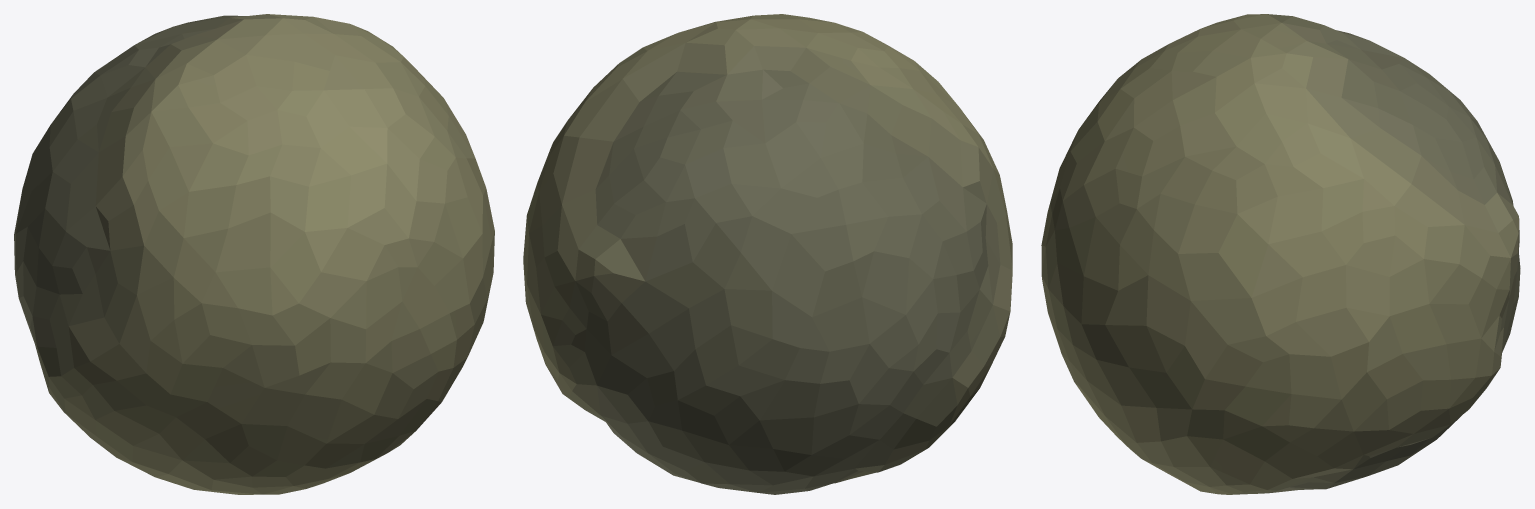
The model's file is zeometry-organic-forms-lumpy-sphere_v6.fbx.
3 renders of one model, left to right at view 1: azimuth 30°, elevation 25°; view 2: azimuth 150°, elevation 25°; view 3: azimuth 270°, elevation 25°, orthographic.
Parts seen in each view (by area): view 1: Lumpy Sphere_v6; view 2: Lumpy Sphere_v6; view 3: Lumpy Sphere_v6.
Part boxes in pixels (x1=…): Lumpy Sphere_v6: x1=14, y1=14, x2=494, y2=494; Lumpy Sphere_v6: x1=523, y1=14, x2=1012, y2=494; Lumpy Sphere_v6: x1=1041, y1=14, x2=1520, y2=494.
Size of the model in its own units: 0.4931 by 0.5 by 0.4908.
